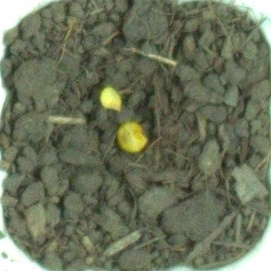chilli seed: (116, 120, 148, 154), (98, 84, 124, 113)
